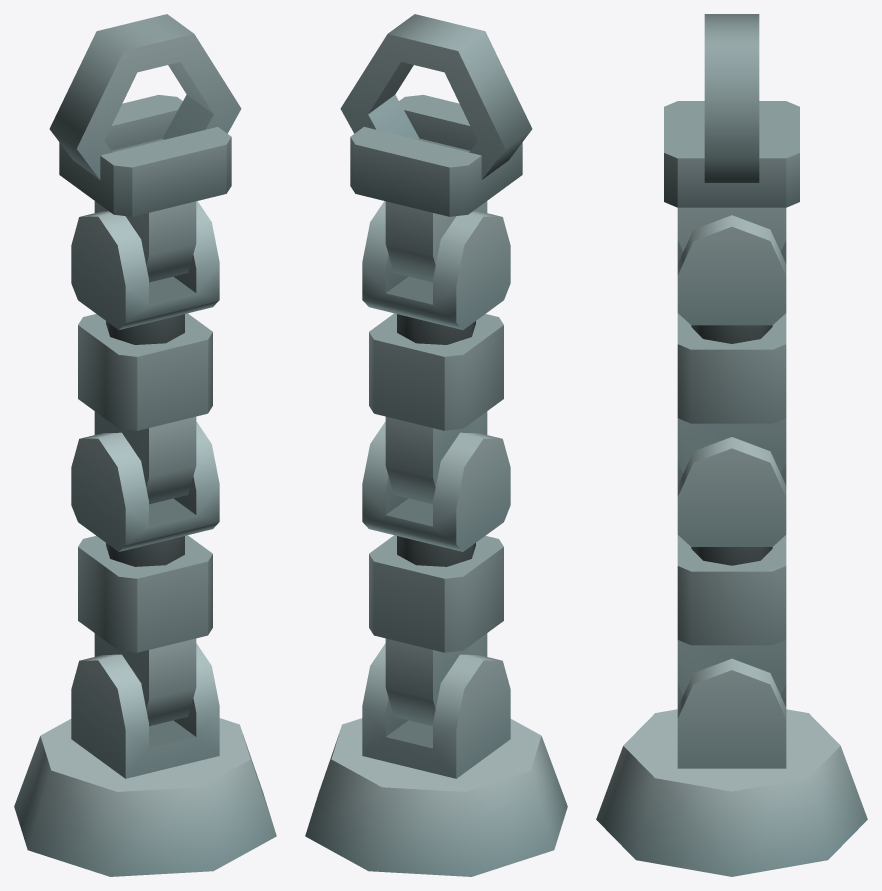
The model's file is robot-arm-a.glb.
The picture shows the model from 3 angles, left to right: view 1: azimuth 30°, elevation 25°; view 2: azimuth 150°, elevation 25°; view 3: azimuth 270°, elevation 25°; orthographic projection.
Parts seen in each view (by area): view 1: robot-arm-a, element-b, element-d, element-f, element-a, element-c, element-e, claw-b, claw-a; view 2: robot-arm-a, element-b, element-d, element-f, element-a, element-c, element-e, claw-b, claw-a; view 3: robot-arm-a, element-d, element-b, element-f, element-a, element-e, element-c, claw-a, claw-b.
Boxes of the visible parts, x1=… form: robot-arm-a: x1=14, y1=718, x2=276, y2=876; element-b: x1=78, y1=535, x2=212, y2=726; element-d: x1=78, y1=313, x2=212, y2=504; element-f: x1=59, y1=94, x2=231, y2=282; element-a: x1=71, y1=643, x2=219, y2=778; element-c: x1=71, y1=421, x2=219, y2=551; element-e: x1=71, y1=201, x2=219, y2=329; claw-b: x1=49, y1=22, x2=158, y2=179; claw-a: x1=132, y1=14, x2=241, y2=139; robot-arm-a: x1=305, y1=718, x2=567, y2=876; element-b: x1=369, y1=535, x2=503, y2=726; element-d: x1=369, y1=313, x2=503, y2=504; element-f: x1=350, y1=94, x2=522, y2=282; element-a: x1=362, y1=643, x2=510, y2=778; element-c: x1=362, y1=421, x2=510, y2=551; element-e: x1=362, y1=201, x2=510, y2=329; claw-b: x1=423, y1=22, x2=532, y2=179; claw-a: x1=340, y1=14, x2=449, y2=139; robot-arm-a: x1=596, y1=709, x2=867, y2=876; element-d: x1=677, y1=313, x2=786, y2=473; element-b: x1=677, y1=535, x2=786, y2=694; element-f: x1=664, y1=101, x2=799, y2=251; element-a: x1=677, y1=658, x2=786, y2=768; element-e: x1=677, y1=215, x2=786, y2=325; element-c: x1=677, y1=437, x2=786, y2=546; claw-a: x1=704, y1=31, x2=759, y2=182; claw-b: x1=704, y1=14, x2=759, y2=31.
Size of the model in its own units: 1 by 3.2 by 1.
Materials: 1 (1 with a texture image).
